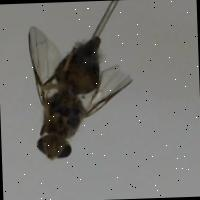Oriental-fruit-fly: (16, 12, 147, 172)
